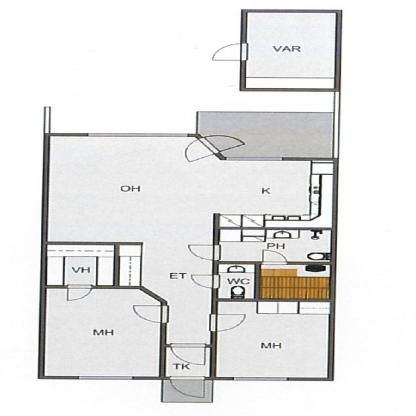door: (181, 134, 247, 162), (130, 304, 174, 326), (186, 243, 230, 262), (210, 43, 253, 62), (171, 342, 206, 365), (171, 376, 206, 398), (204, 315, 247, 332), (187, 274, 224, 291), (260, 247, 290, 267), (64, 284, 92, 302)
window: (88, 133, 186, 138), (230, 155, 284, 163), (233, 376, 289, 383), (79, 375, 134, 380)
zone: (51, 135, 344, 342), (47, 289, 162, 377), (221, 301, 326, 377), (248, 11, 334, 87), (199, 113, 334, 156), (221, 229, 329, 261), (50, 243, 112, 284), (261, 264, 329, 300), (221, 265, 255, 297)
